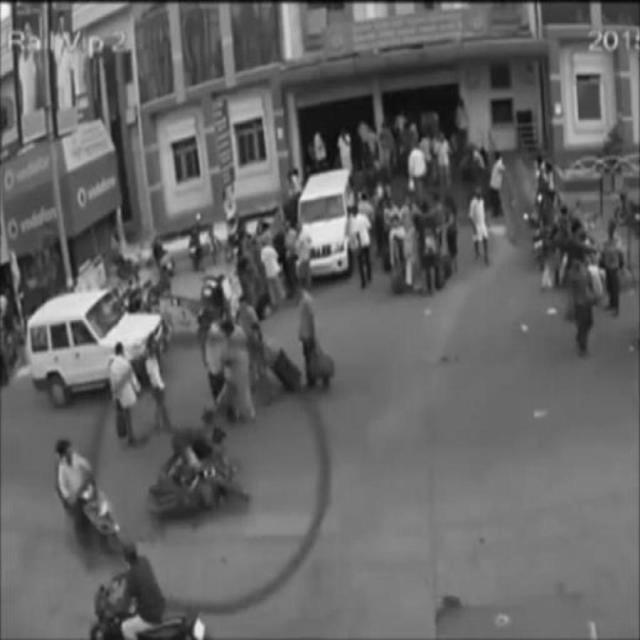person: (292, 281, 330, 391), (109, 340, 144, 448), (565, 245, 593, 356), (223, 320, 253, 421)
vehicle: (28, 289, 164, 405), (88, 540, 209, 640), (149, 411, 249, 524), (46, 435, 123, 553), (298, 166, 355, 274)
